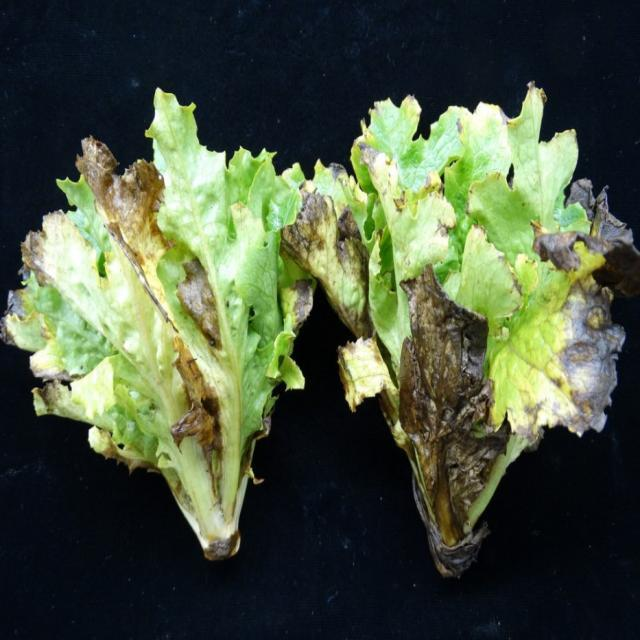Lettuce: (307, 90, 631, 533), (2, 94, 304, 550)
